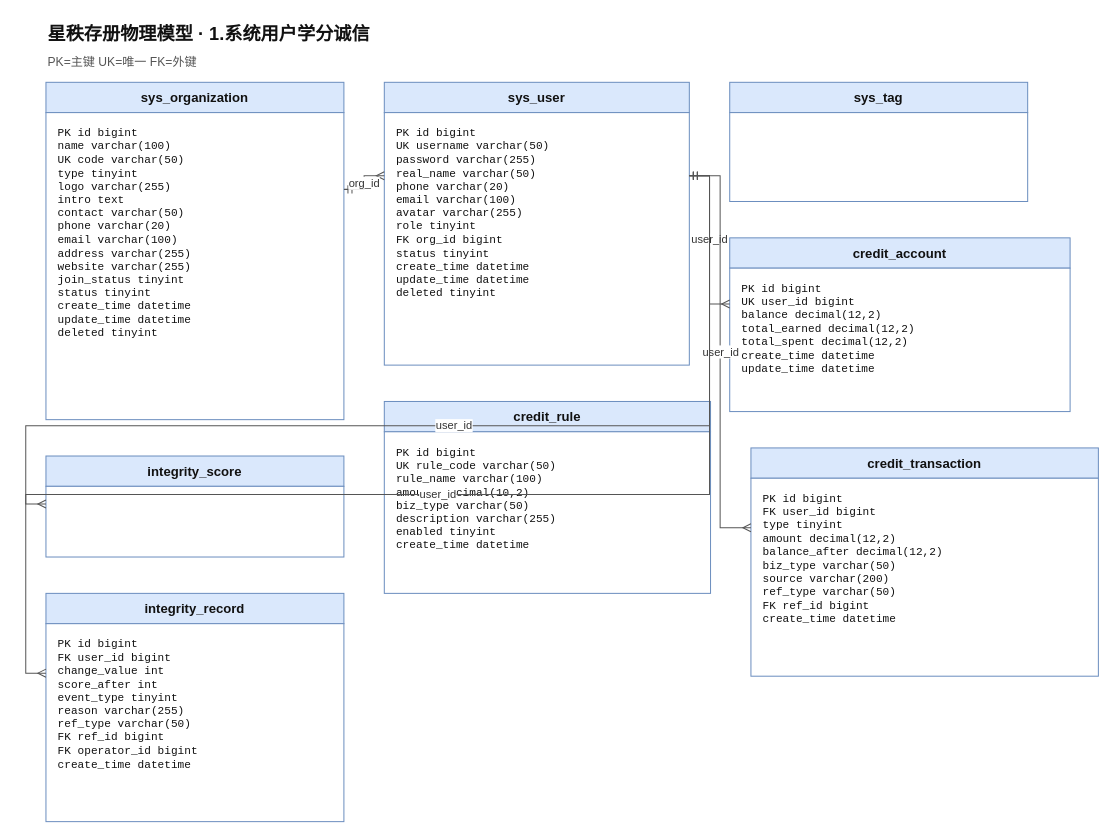
The diagram is 1116 pixels wide and 839 high, and some of its shapes have lost their labels. The shapes that lost their labels are listed below. From the top down, each one's centre as x and y in pixels, then its label:
the point at 878,156: PK id bigint UK name varchar(50) category varchar(30) create_time datetime
the point at 194,521: PK user_id bigint score int update_time datetime
